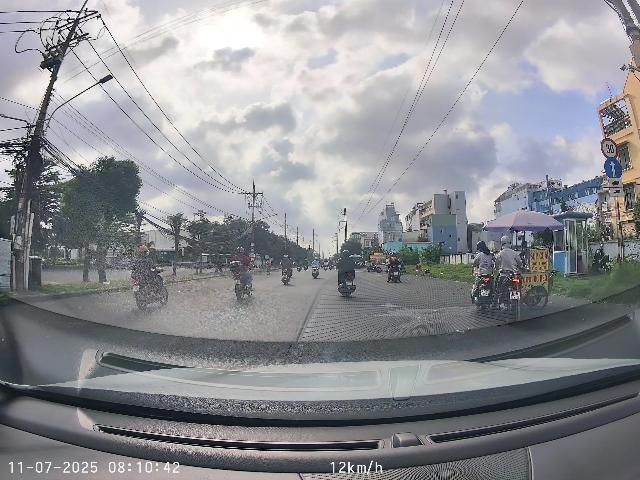127-toc-do-toi-da-30: (601, 138, 619, 158)
301a-cac-xe-chi-duoc-di-thang: (604, 158, 622, 178)
